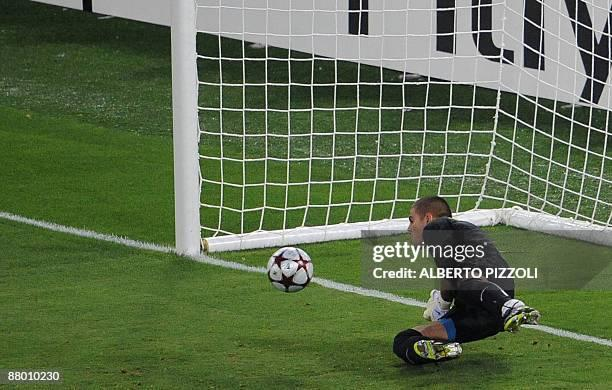Goalkeeper: (393, 196, 540, 365)
ball: (268, 247, 313, 292)
